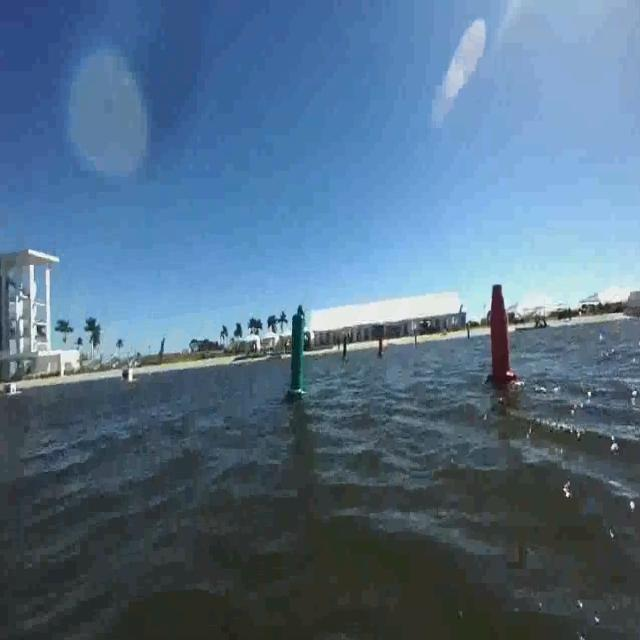green-column-buoy: (285, 310, 308, 400)
red-column-buoy: (486, 280, 519, 387)
